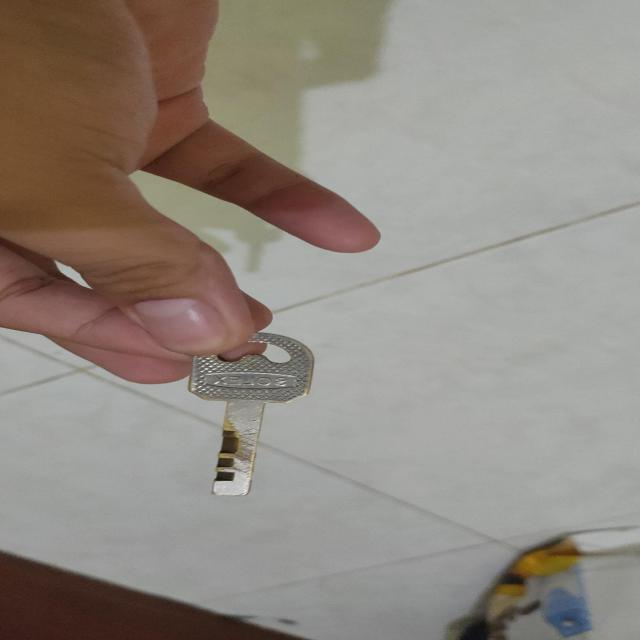kunci_pagar: (175, 325, 320, 512)
